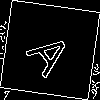A: (25, 25, 82, 79)
